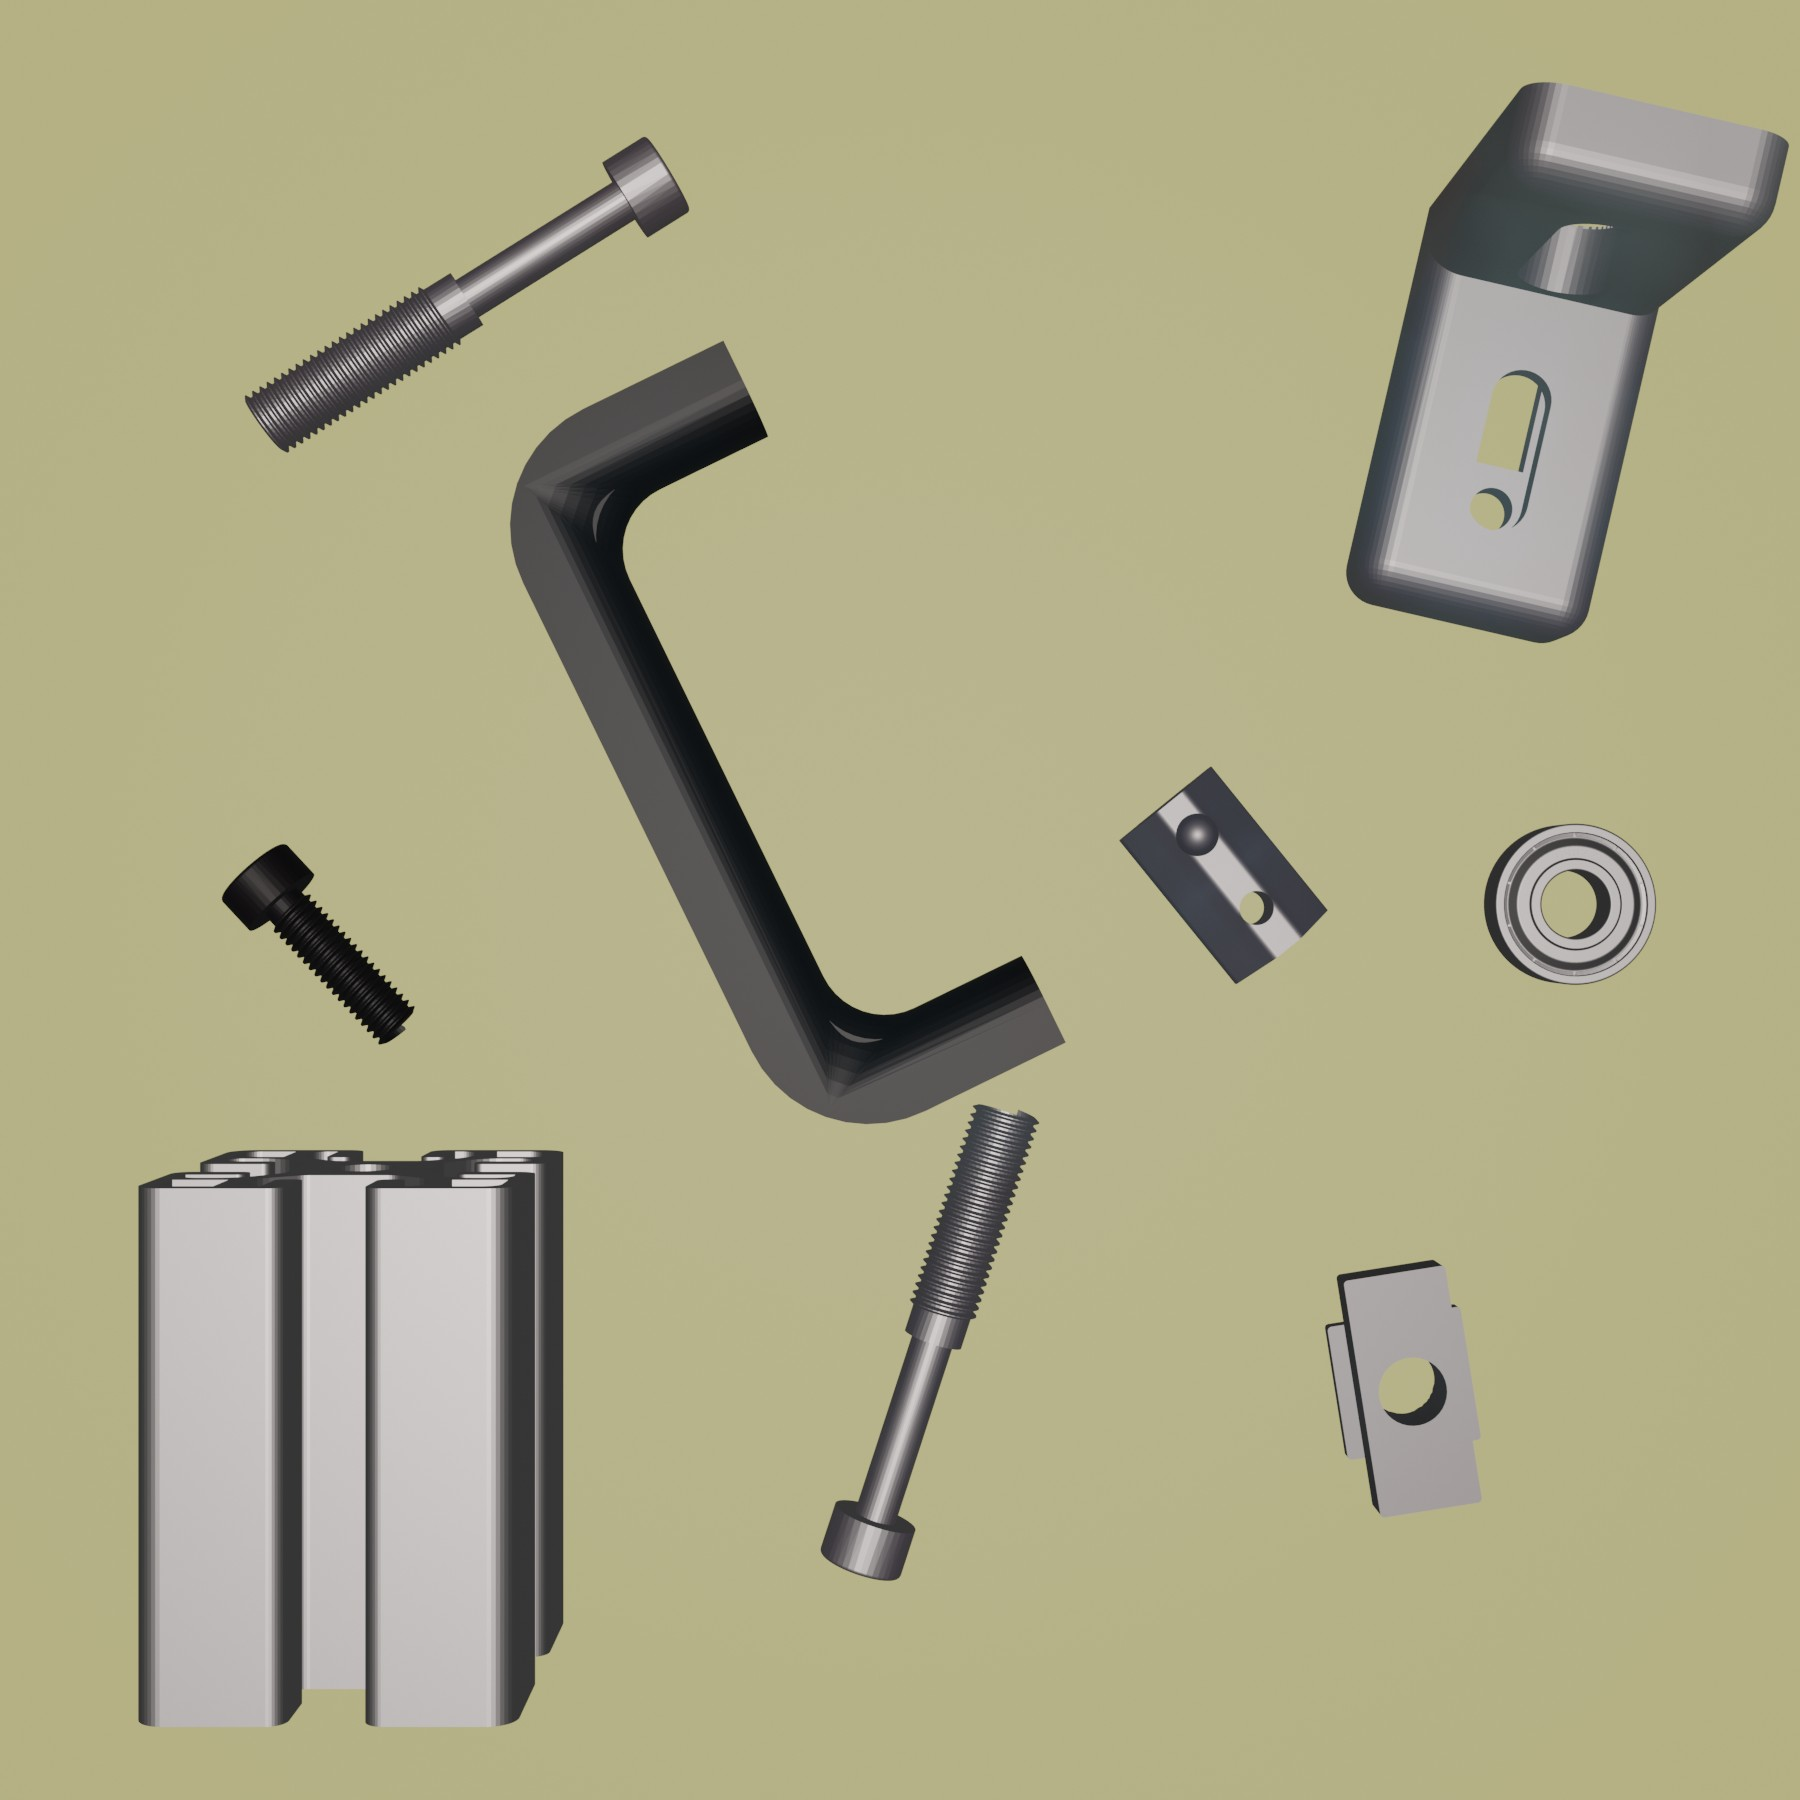Aluminium Extension: (132, 1139, 567, 1732)
Ball Bearing: (1482, 819, 1658, 986)
Multiwinkel: (1343, 81, 1792, 646)
Pull Handle: (506, 338, 1066, 1126)
Shoulder Socket Head Cap Screw: (242, 132, 694, 455), (819, 1099, 1042, 1584)
Socket Head Cap Screw: (216, 839, 417, 1047)
T Nut Square: (1320, 1254, 1488, 1520)
T Spring Nut: (1114, 762, 1329, 986)
